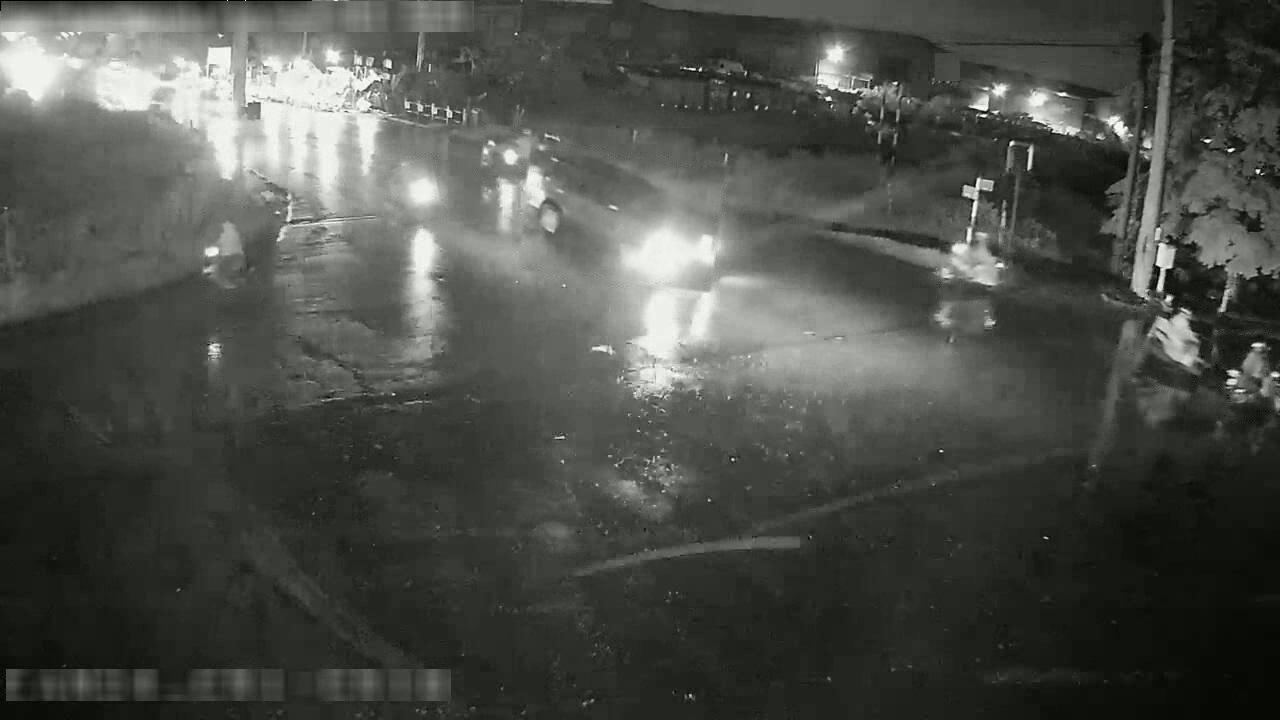Car: (523, 147, 667, 238), (480, 130, 532, 179)
Motorcyclist: (1139, 303, 1207, 389), (203, 214, 261, 292), (939, 232, 1005, 295), (1224, 338, 1279, 413), (390, 162, 443, 224)
